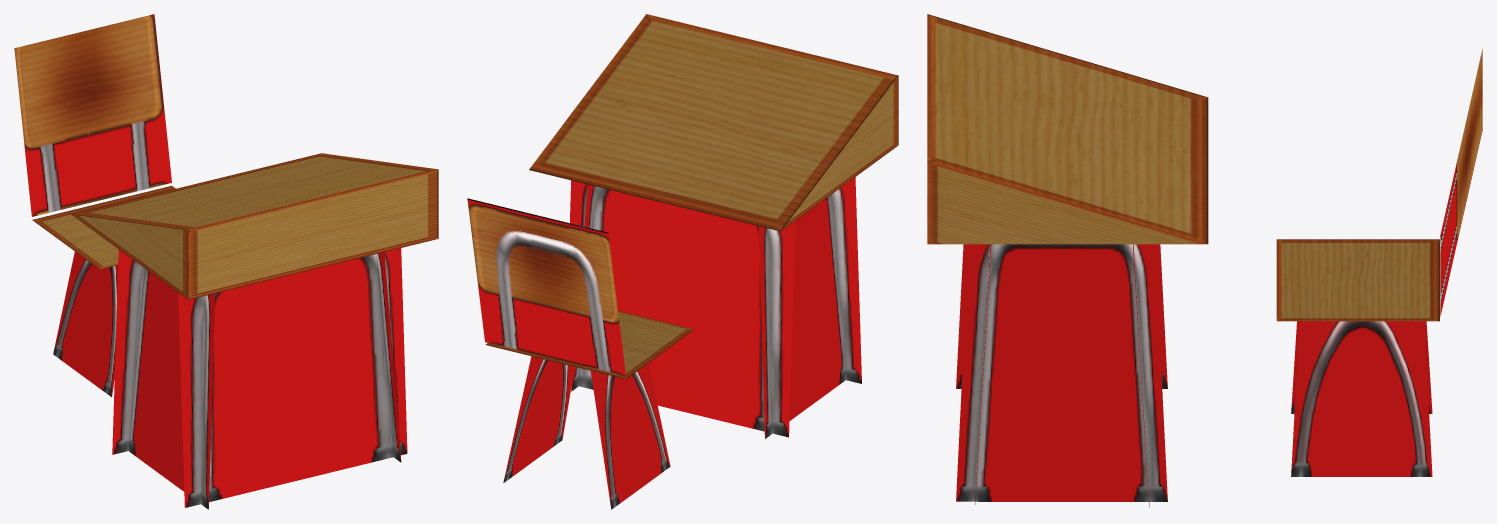
The model's file is bench04.glb.
3 renders of one model, left to right at view 1: azimuth 30°, elevation 25°; view 2: azimuth 150°, elevation 25°; view 3: azimuth 270°, elevation 25°, orthographic. The views are drawn at different scales.
Parts seen in each view (by area): view 1: bench04; view 2: bench04; view 3: bench04.
Boxes of the visible parts, <box> form: bench04: <box>14,14,438,509</box>; bench04: <box>467,14,898,509</box>; bench04: <box>927,14,1482,507</box>.
Bounding box in the file's own units: 164 × 185 × 262.
Materials: 1 (1 with a texture image).
